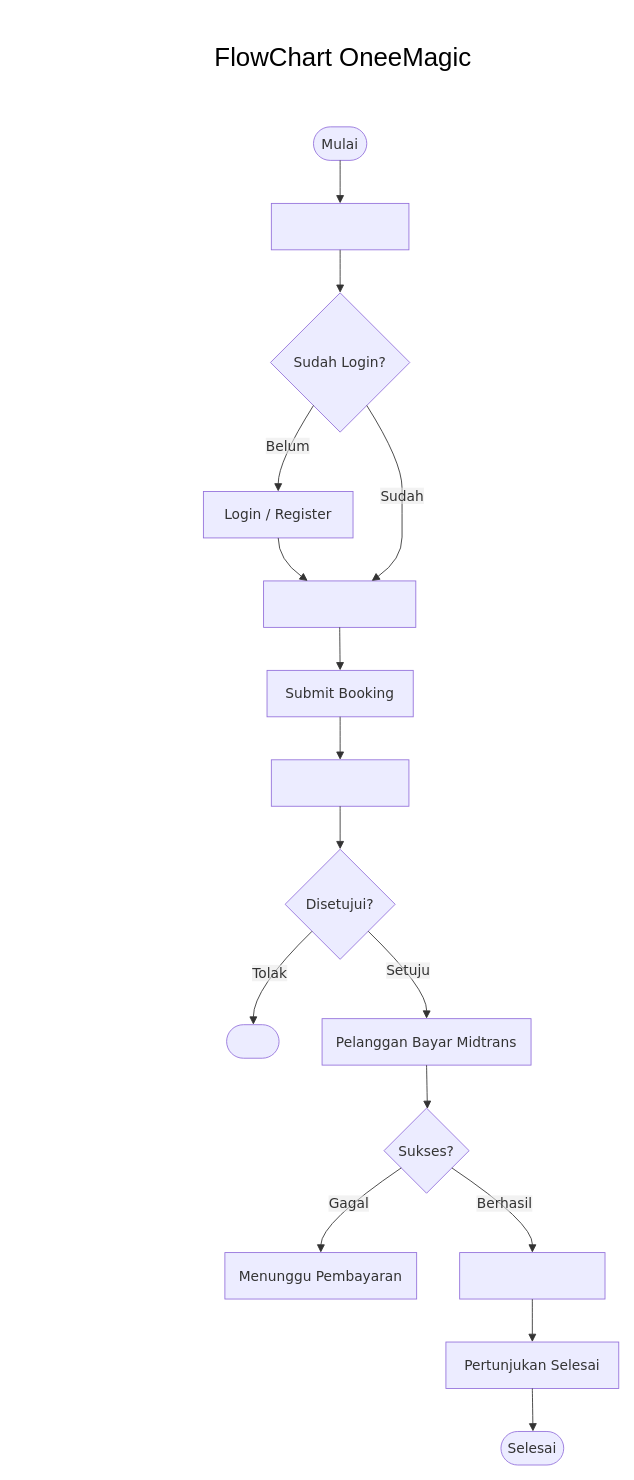
The diagram is 634 pixels wide and 1480 high, and some of its shapes have lost their labels. Here are the shapes that lost their labels. From the top down, the centre of each, then its label:
At (339,226): "Lihat Layanan".
At (339,603): "Isi Form Booking".
At (339,782): "Admin Review".
At (252,1041): "Batal".
At (532,1275): "Status: Dibayar".
